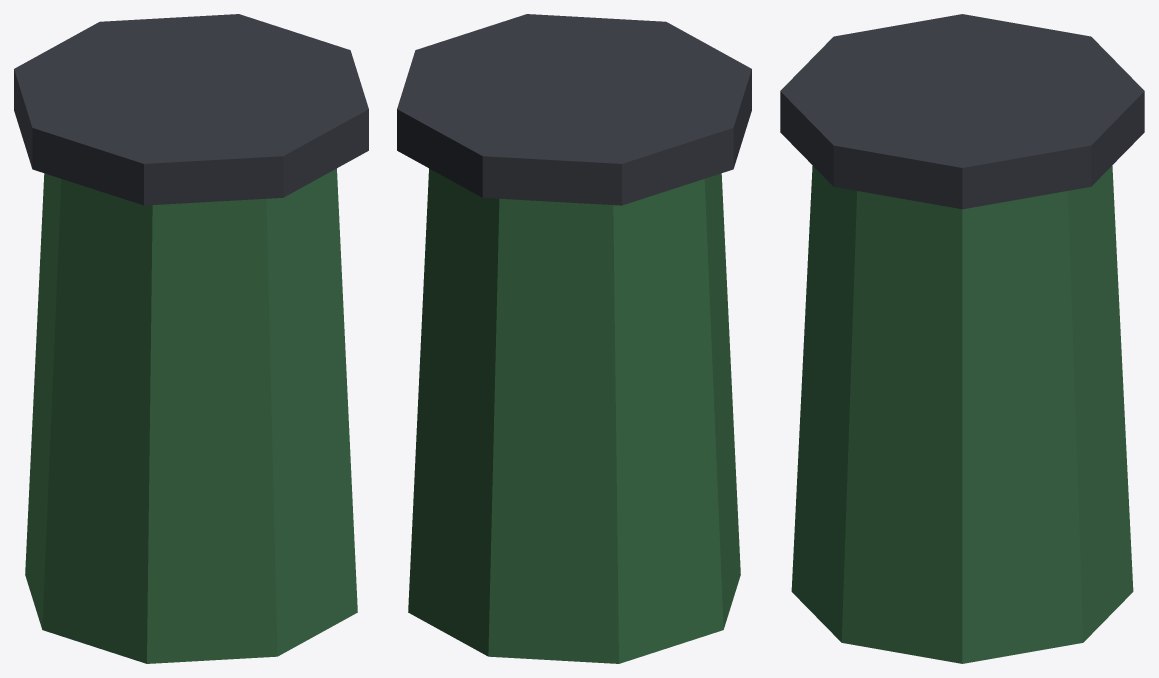
Rendered from trash_bin.glb.
The picture shows the model from 3 angles, left to right: view 1: azimuth 30°, elevation 25°; view 2: azimuth 150°, elevation 25°; view 3: azimuth 270°, elevation 25°; orthographic projection.
Visible parts, largest first — view 1: trash_bin; view 2: trash_bin; view 3: trash_bin.
Part boxes in pixels (x1,y1,x2,y2): trash_bin: (14,14,368,663); trash_bin: (397,14,751,663); trash_bin: (780,14,1144,663).
Bounding box in the file's own units: 0.64 × 0.97 × 0.64.
